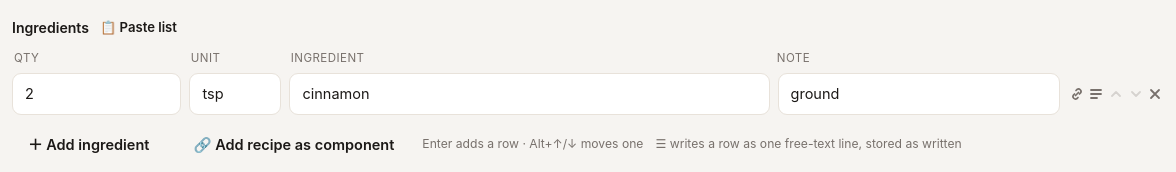
Test: IngredientRows undo + reorder safety › entering the lane folds the note into the line and clears it
Click the button named "Write this line as free text" at (1096, 94), box [1088,80,1105,108]
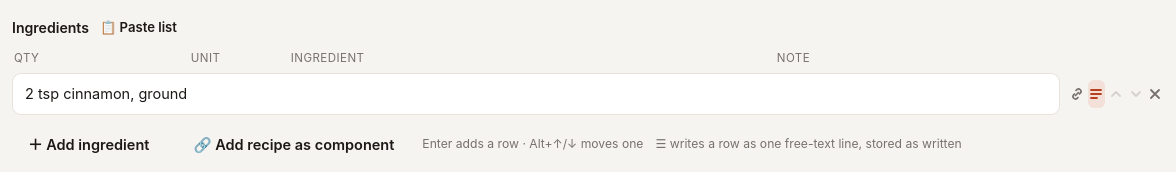
Expected: the field with class "ftxt" holds "2 tsp cinnamon, ground", [12,73,1060,115]
